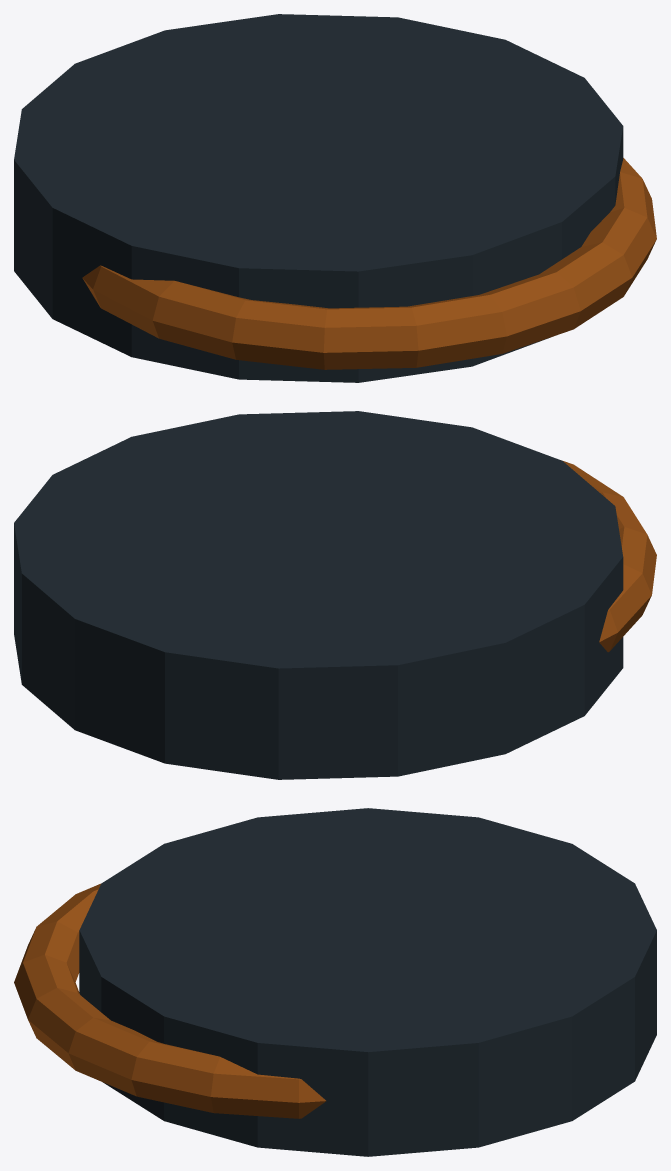
Rendered from gauge.obj.
3 renders of one model, top to bottom at view 1: azimuth 30°, elevation 25°; view 2: azimuth 150°, elevation 25°; view 3: azimuth 270°, elevation 25°, orthographic. The views are drawn at different scales.
Parts seen in each view (by area): view 1: painted_metal, brass; view 2: painted_metal, brass; view 3: painted_metal, brass.
Part boxes in pixels (x1,y1,x2,y2): painted_metal: (14,14,623,382); brass: (82,158,656,369); painted_metal: (14,411,623,779); brass: (562,460,656,652); painted_metal: (79,808,656,1156); brass: (14,883,326,1118).
Size of the model in its own units: 1.5 by 0.3 by 1.67.
